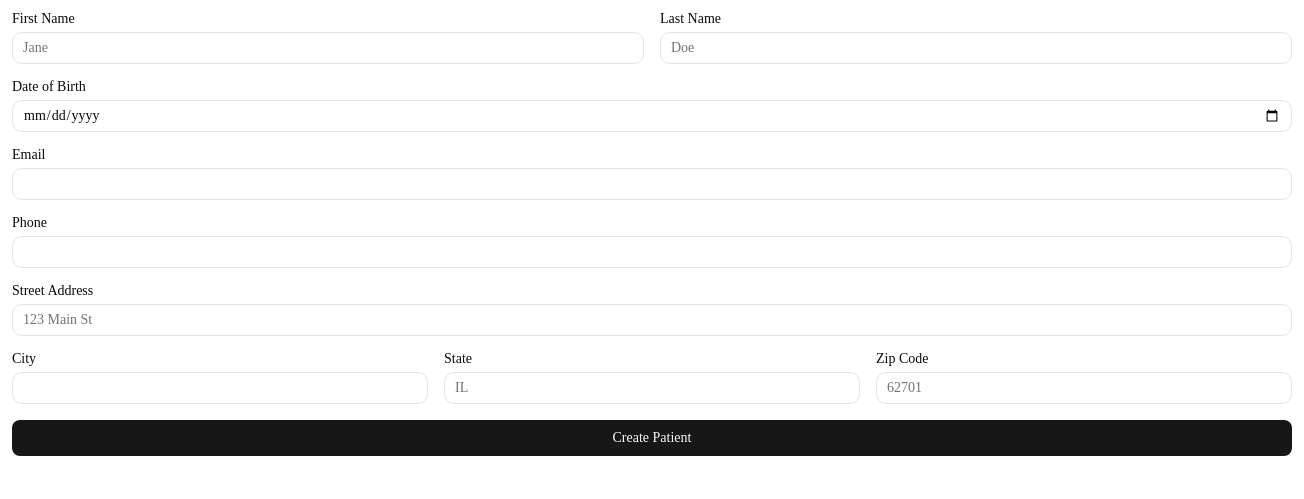
Test: NewPatientForm › shows first name error when first name field is blurred while empty
This screenshot has width=1304, height=499.
Click the field labelled "First Name" at (328,48), box [12,32,644,64]
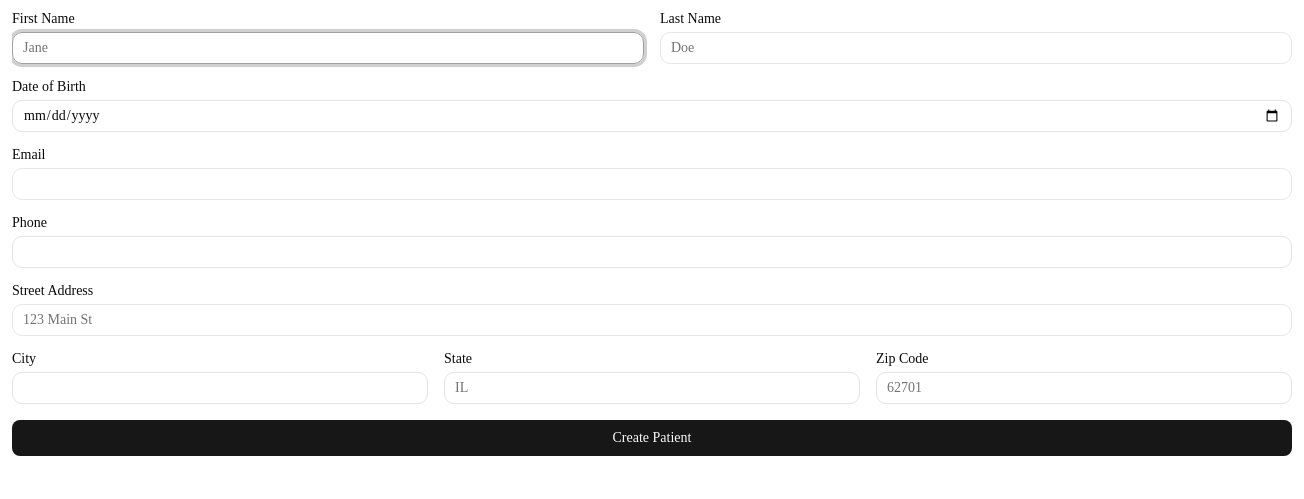
Press Tab
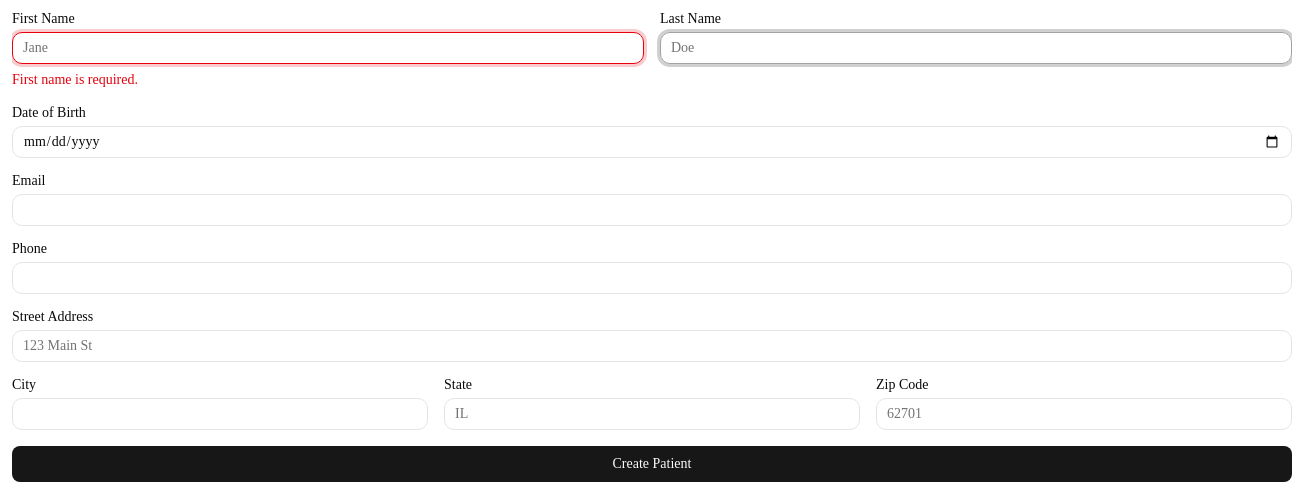
Expected: the text "First name is required." is shown, [12,72,138,87]
